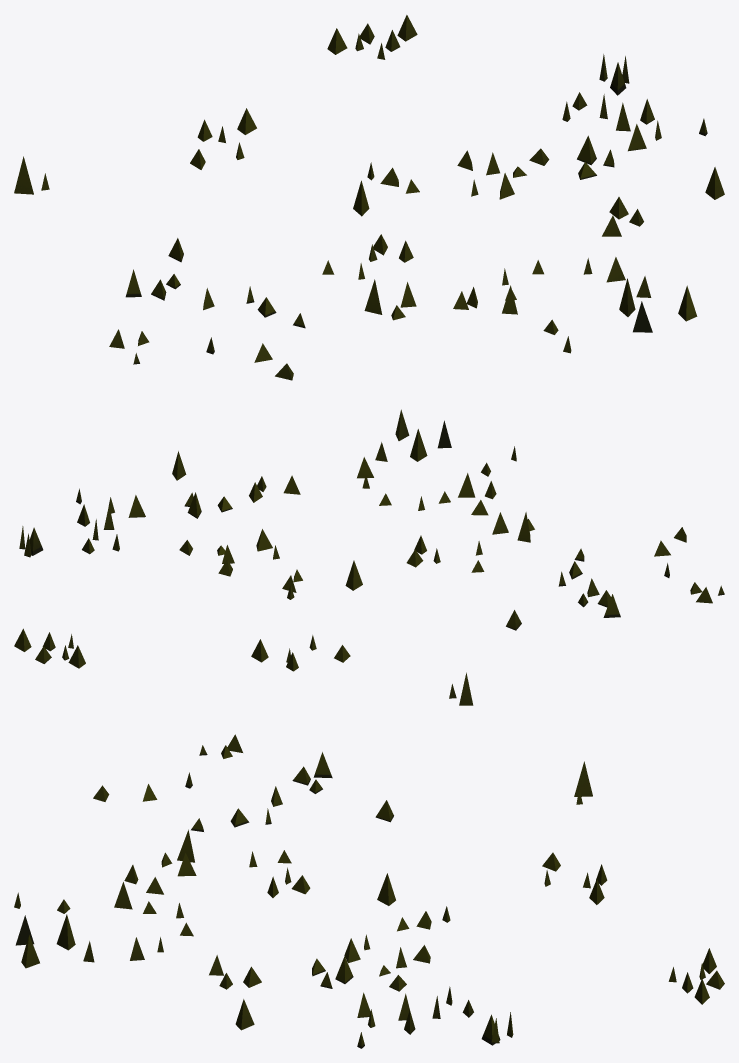
File: Plant_01.FBX
The picture shows the model from 3 angles, top to bottom: view 1: azimuth 30°, elevation 25°; view 2: azimuth 150°, elevation 25°; view 3: azimuth 270°, elevation 25°; orthographic projection. The views are drawn at different scales.
Visible parts, largest first — view 1: Plant_01; view 2: Plant_01; view 3: Plant_01.
Part boxes in pixels (x1,y1,x2,y2): Plant_01: (14, 15, 724, 380); Plant_01: (14, 409, 724, 705); Plant_01: (14, 734, 724, 1048).
Bounding box in the file's own units: 15.32 × 0.9963 × 15.05.
